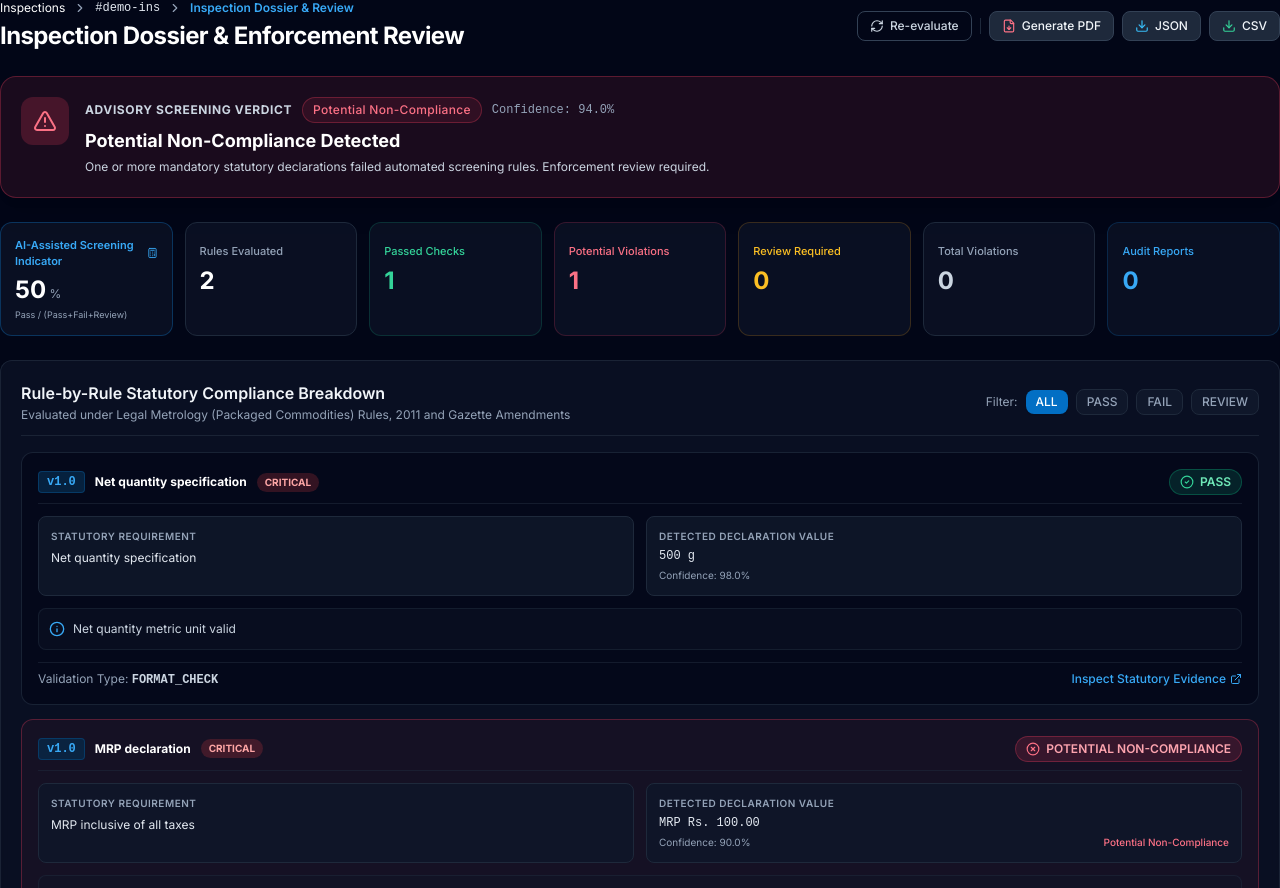
Scenario: ScanResult Component › filters rule checks by status
Expected: the text "500 g" is shown, left=659, top=549, right=695, bottom=563
// Click FAIL filter button
Click the button "FAIL": (1160, 402) left=1136, top=389, right=1183, bottom=415
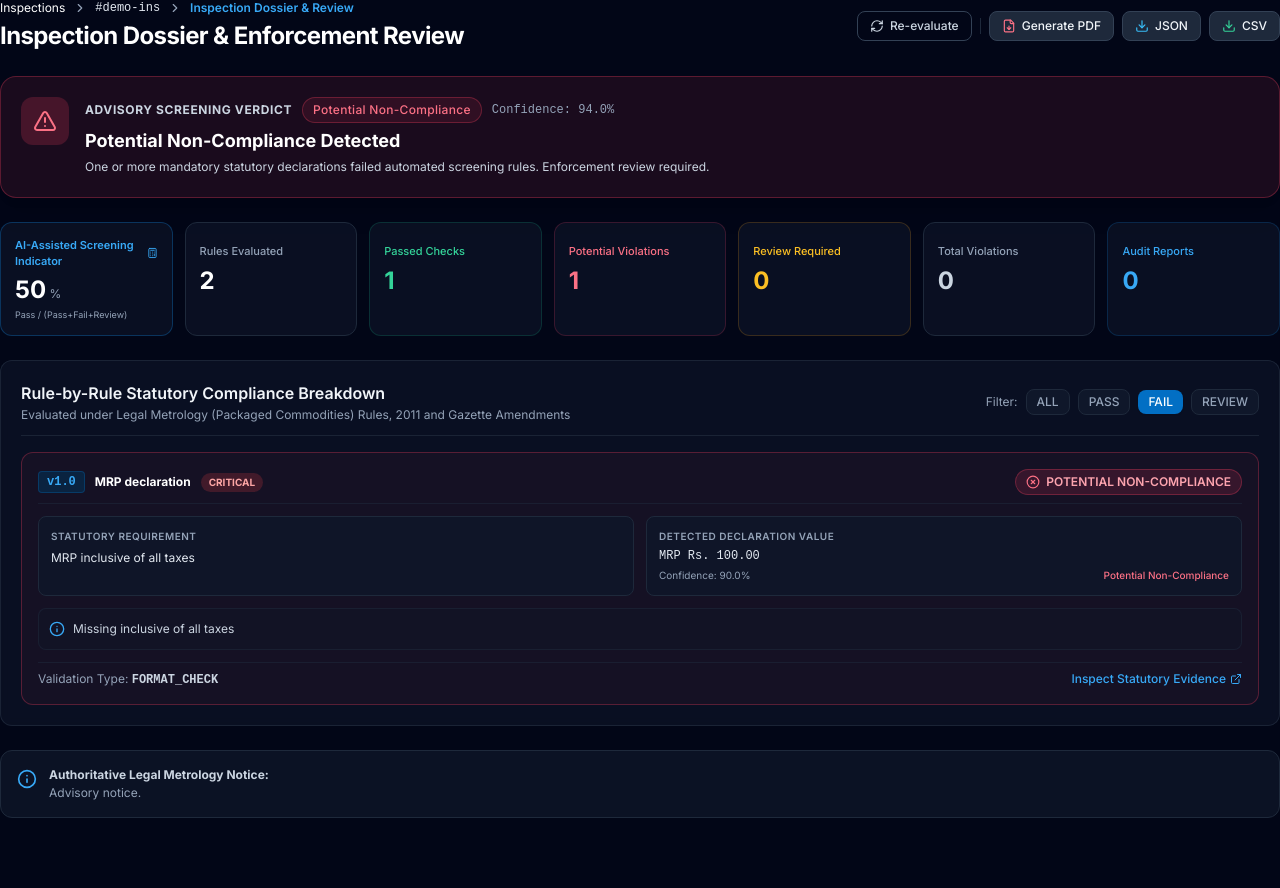
Expected: the text "MRP Rs. 100.00" is shown, left=659, top=549, right=760, bottom=563
Expected: the text "500 g" is gone
